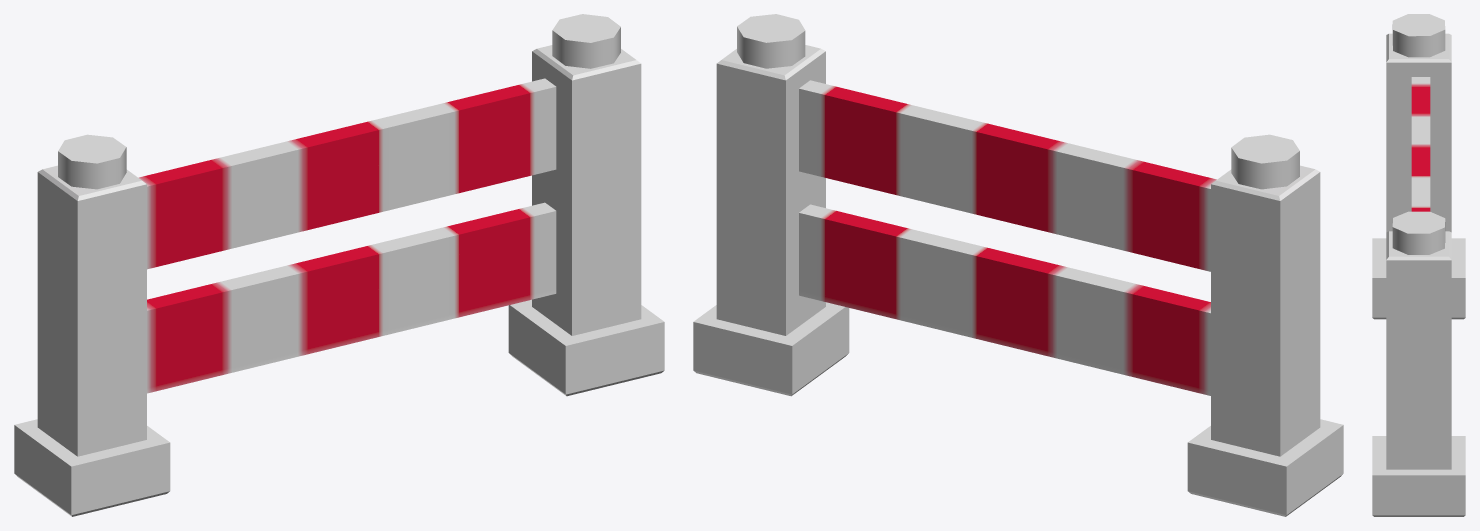
The model's file is Road_Fence.FBX.
The picture shows the model from 3 angles, left to right: view 1: azimuth 30°, elevation 25°; view 2: azimuth 150°, elevation 25°; view 3: azimuth 270°, elevation 25°; orthographic projection. The views are drawn at different scales.
Parts seen in each view (by area): view 1: Road_Fence; view 2: Road_Fence; view 3: Road_Fence.
Boxes of the visible parts, x1=… form: Road_Fence: x1=14, y1=14, x2=664, y2=516; Road_Fence: x1=693, y1=14, x2=1343, y2=516; Road_Fence: x1=1372, y1=14, x2=1465, y2=516.
Bounding box in the file's own units: 600 × 325 × 100.
